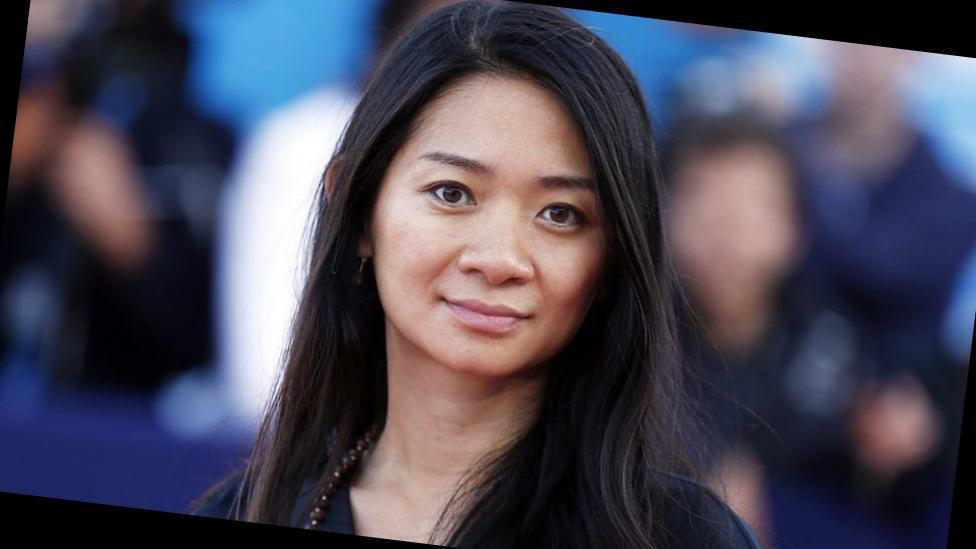Sober: (395, 83, 599, 364)
